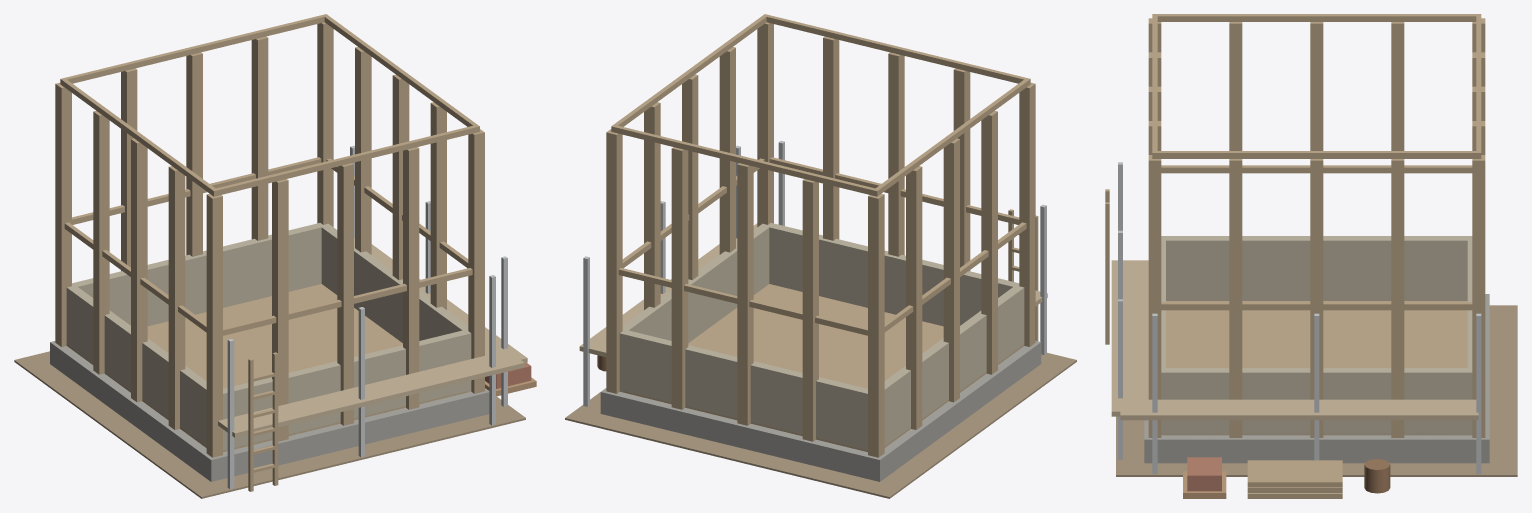
The model's file is feed_mill_site_5.glb.
3 views of the same model, side by side, from view 1: azimuth 30°, elevation 25°; view 2: azimuth 150°, elevation 25°; view 3: azimuth 270°, elevation 25° (orthographic). The views are drawn at different scales.
Visible parts, largest first — view 1: body; view 2: body; view 3: body.
Part boxes in pixels (x1,y1,x2,y2): body: (14, 14, 536, 498); body: (565, 14, 1076, 498); body: (1105, 14, 1517, 498).
Size of the model in its own units: 2.1 by 1.58 by 1.91.
